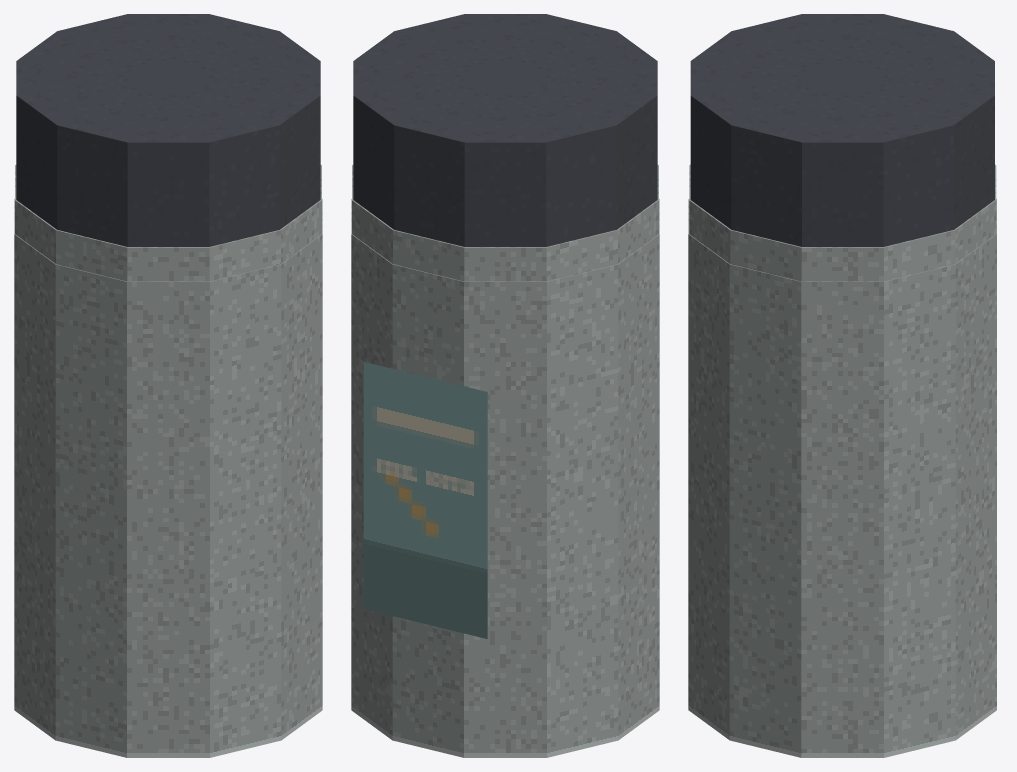
Rendered from bottle_metal.glb.
The picture shows the model from 3 angles, left to right: view 1: azimuth 30°, elevation 25°; view 2: azimuth 150°, elevation 25°; view 3: azimuth 270°, elevation 25°; orthographic projection.
Visible parts, largest first — view 1: block_bottle body, block_screw cap, block_shoulder; view 2: block_bottle body, block_screw cap, block_product label, block_shoulder; view 3: block_bottle body, block_screw cap, block_shoulder.
Boxes of the visible parts, left/top/right/bottom form: block_bottle body: left=14, top=199, right=322, bottom=757; block_screw cap: left=16, top=14, right=320, bottom=246; block_shoulder: left=15, top=165, right=321, bottom=281; block_bottle body: left=351, top=199, right=659, bottom=757; block_screw cap: left=353, top=14, right=657, bottom=246; block_product label: left=363, top=362, right=487, bottom=638; block_shoulder: left=352, top=165, right=658, bottom=281; block_bottle body: left=688, top=199, right=996, bottom=757; block_screw cap: left=690, top=14, right=994, bottom=246; block_shoulder: left=689, top=164, right=996, bottom=281.
Size of the model in its own units: 0.0925 by 0.2031 by 0.0941.
Materials: 1 (1 with a texture image).
